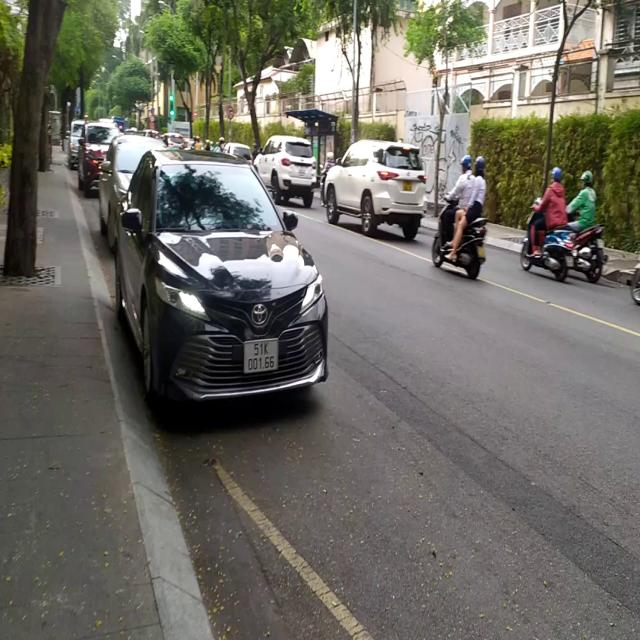bien_trang: (240, 337, 283, 378)
